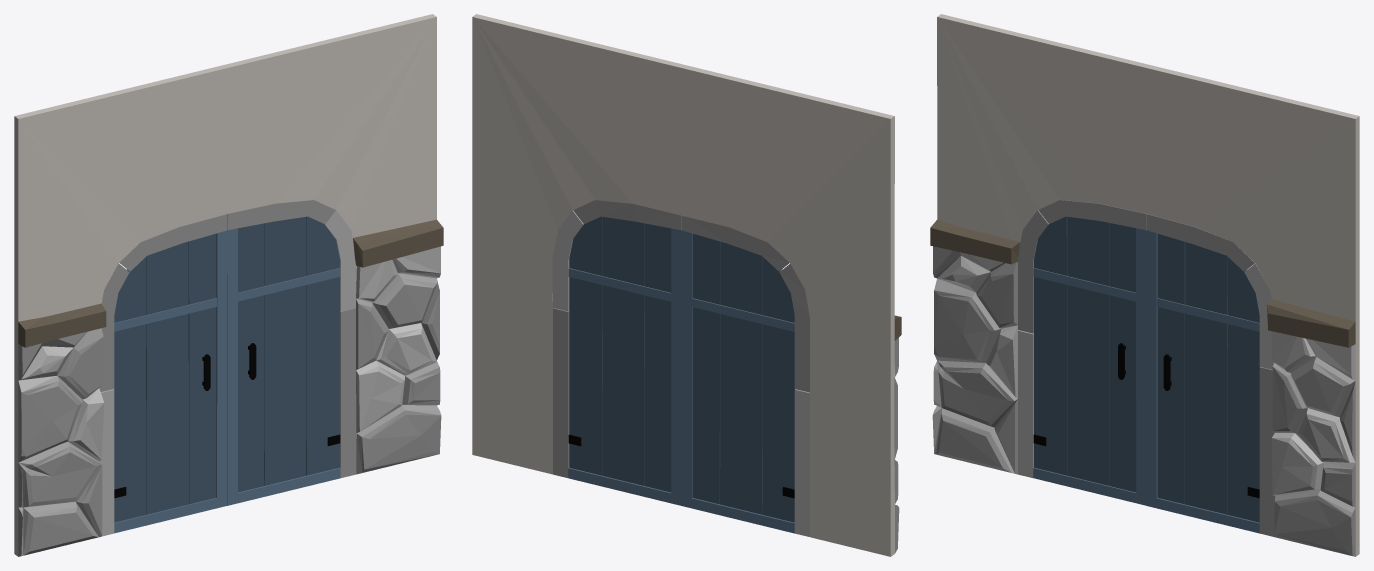
Rendered from _DOOR_05_1.fbx.
3 renders of one model, left to right at view 1: azimuth 30°, elevation 25°; view 2: azimuth 150°, elevation 25°; view 3: azimuth 330°, elevation 25°, orthographic.
Parts seen in each view (by area): view 1: DOOR_05_1; view 2: DOOR_05_1; view 3: DOOR_05_1.
Part boxes in pixels (left/top/right/bottom): DOOR_05_1: left=14, top=14, right=443, bottom=556; DOOR_05_1: left=472, top=14, right=901, bottom=556; DOOR_05_1: left=930, top=14, right=1359, bottom=556.
Size of the model in its own units: 300 by 300 by 13.82.
